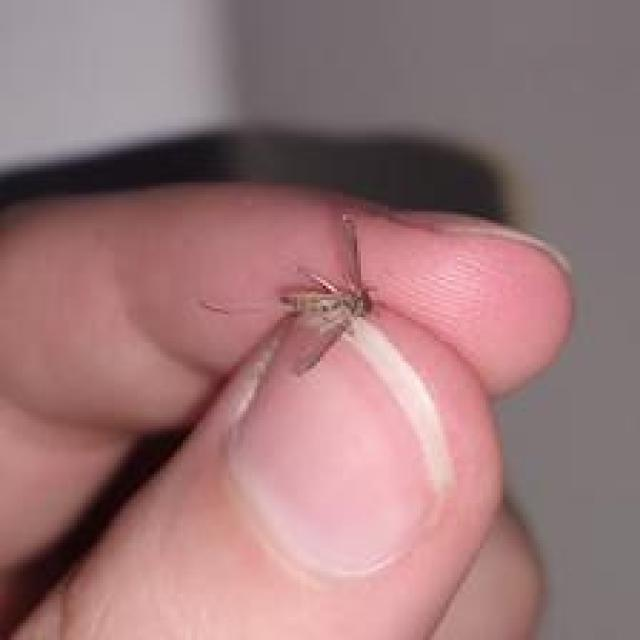Culex: (191, 208, 500, 583)
